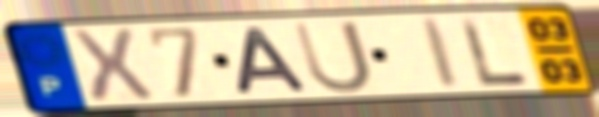7: (143, 25, 204, 101)
A: (233, 25, 314, 97)
I: (417, 15, 464, 91)
L: (455, 15, 533, 89)
U: (288, 18, 376, 96)
X: (65, 26, 159, 106)
